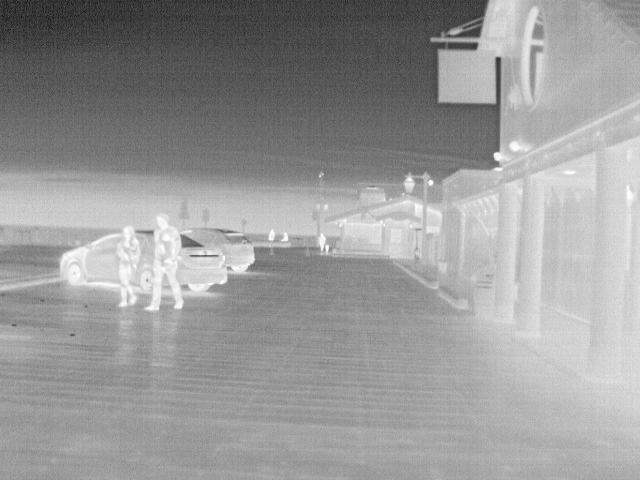car: (59, 230, 123, 289), (186, 227, 256, 272), (179, 230, 228, 294)
person: (142, 213, 188, 310), (115, 226, 141, 307), (316, 231, 329, 250), (265, 226, 279, 242), (277, 228, 292, 242)
